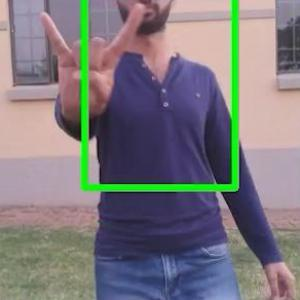takeoff-hand: (28, 0, 147, 138)
